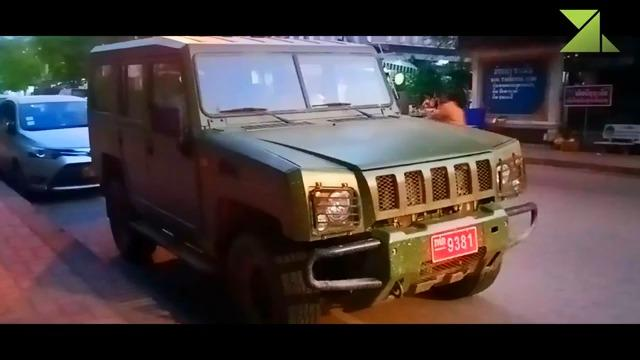MIL_HMMWV: (88, 36, 537, 325), (0, 94, 100, 195)
